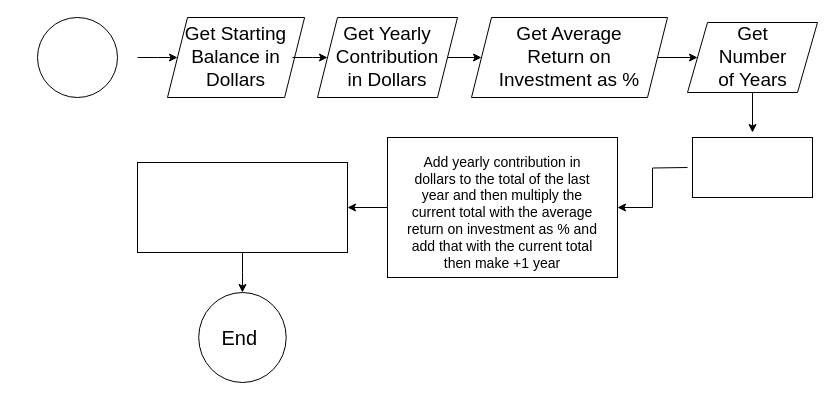
Image size: 835x400. Some labels were removed from this diagram. Each missing label, with the centre of its shape:
"add starting balance to year 0" goes at [752,167].
"Repeat last step until reached the number of years" goes at [242,207].
"Start" goes at [77,57].
